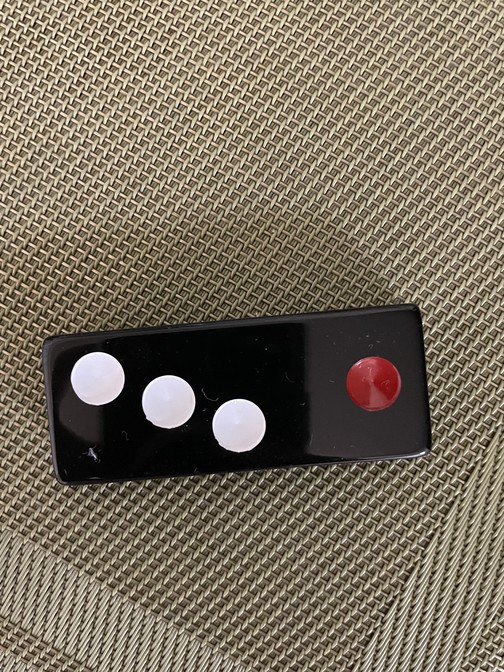goose: (42, 307, 434, 485)
